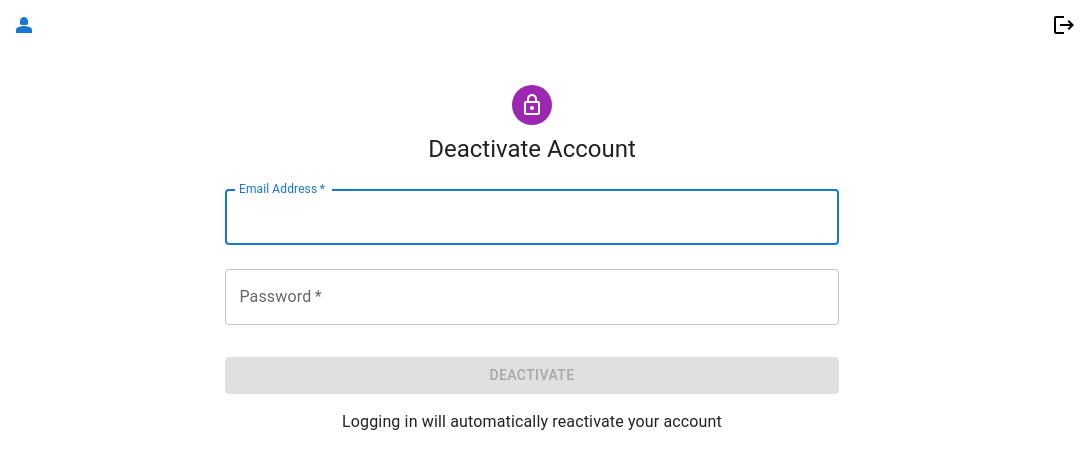
Scenario: Deactivate Account › should show an error message if response from server is not 200
The width and height of the screenshot is (1091, 471).
Type "test@email.com" into the field labelled "Email Address" at [532, 217], box [225,189,838,245]
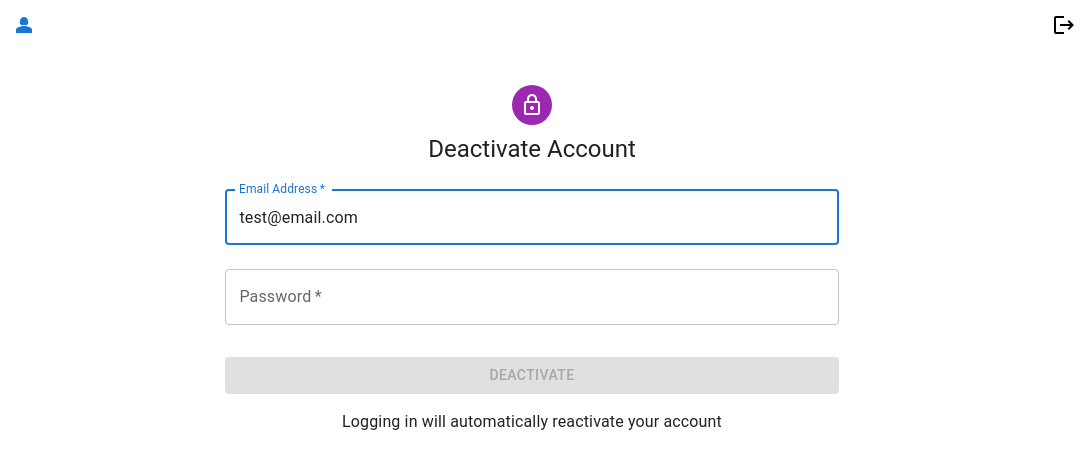
Type "testPassword" into the password field labelled "Password" at [532, 297], box [225,269,838,325]
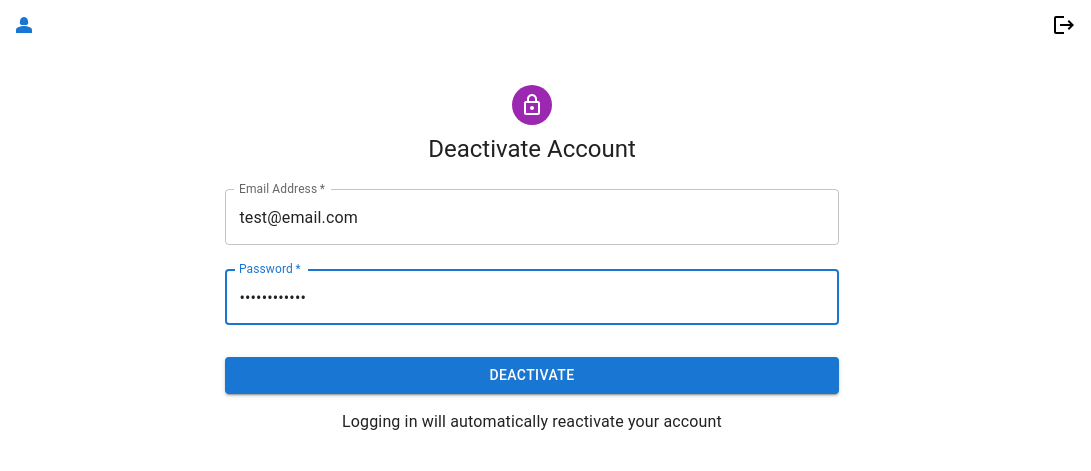
Click the button "Deactivate" at [532, 375], box [225,357,838,394]
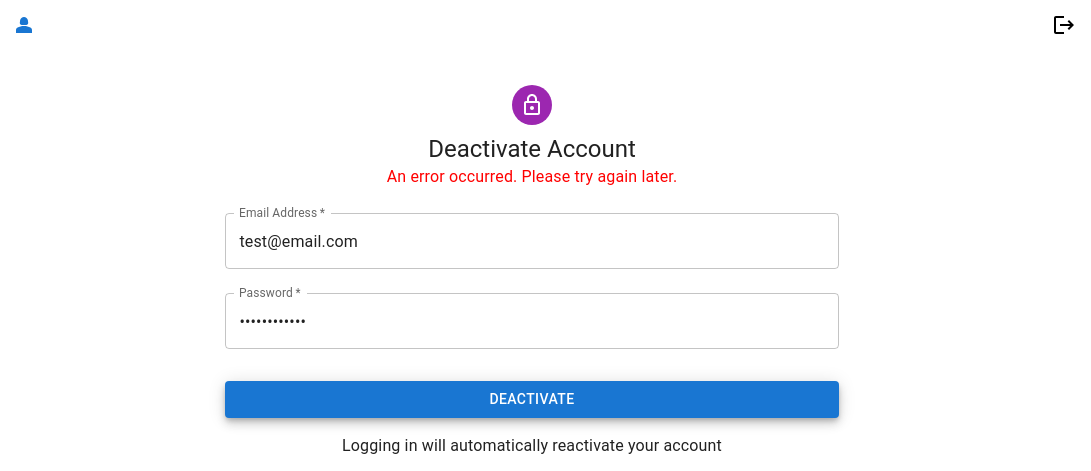
Expected: the text "An error occurred. Please try again later." is shown, [387,165,677,189]
